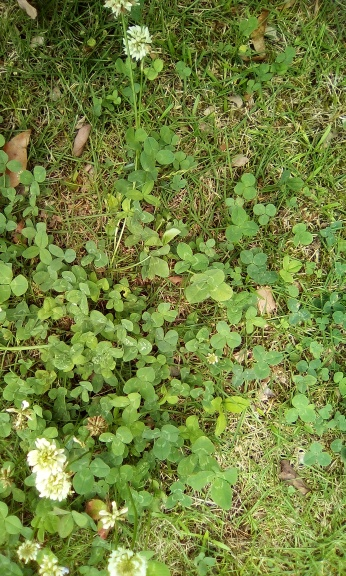4leaf: (183, 268, 233, 304)
